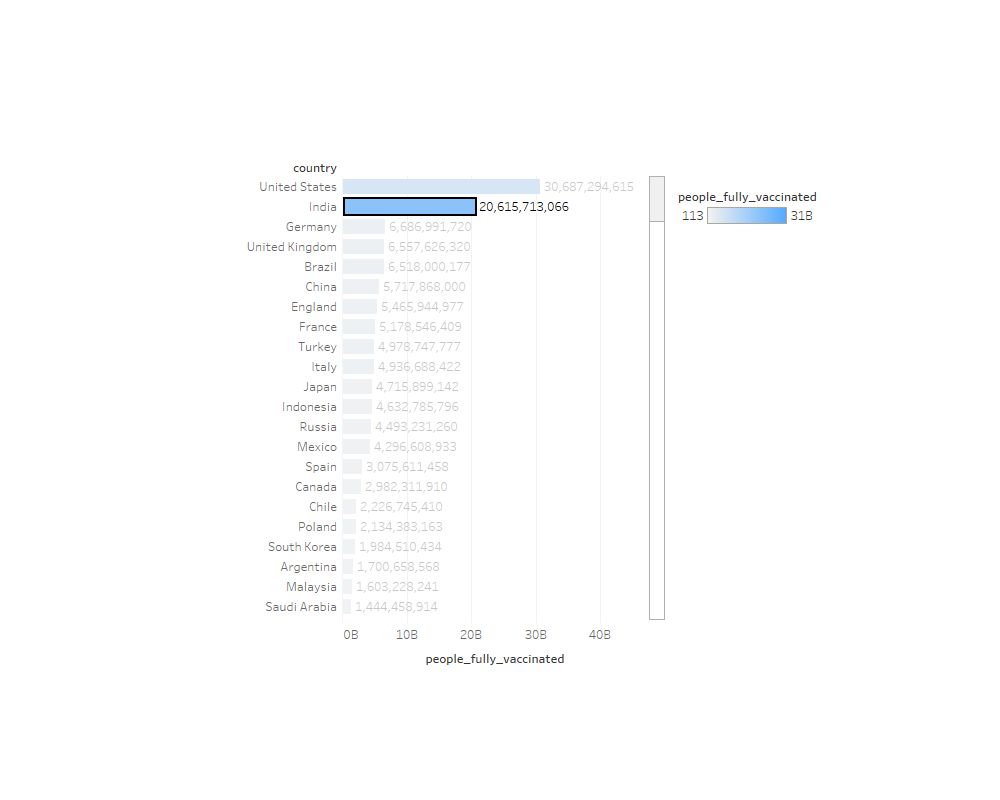

What the dashboard file says about the page in this screenshot:
{"tool":"tableau","page":{"name":"Dashboard 1","canvas":[1000,800],"ordinal":0},"visuals":[{"type":"worksheet","title":"Sheet 7","mark":"Automatic","rows":["country"],"cols":["people_fully_vaccinated"],"box":[8,8,984,784]}]}

Visuals, with their boxes in screenshot pixels (x1, y1, x2, y2), scaled from the page's 1000x800 canvas onto the 1000x800 screenshot:
"Sheet 7" worksheet: (8, 8, 992, 792)
